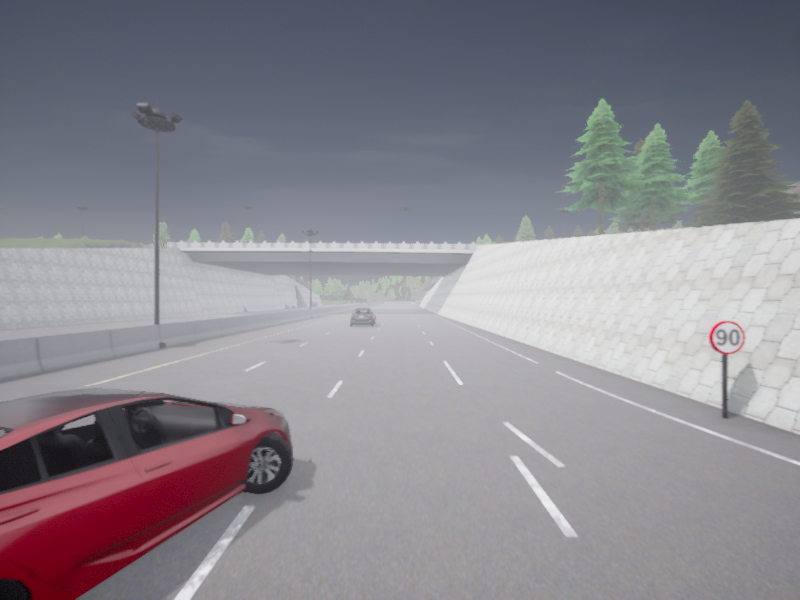vehicle: (0, 388, 291, 599), (351, 308, 375, 325)
